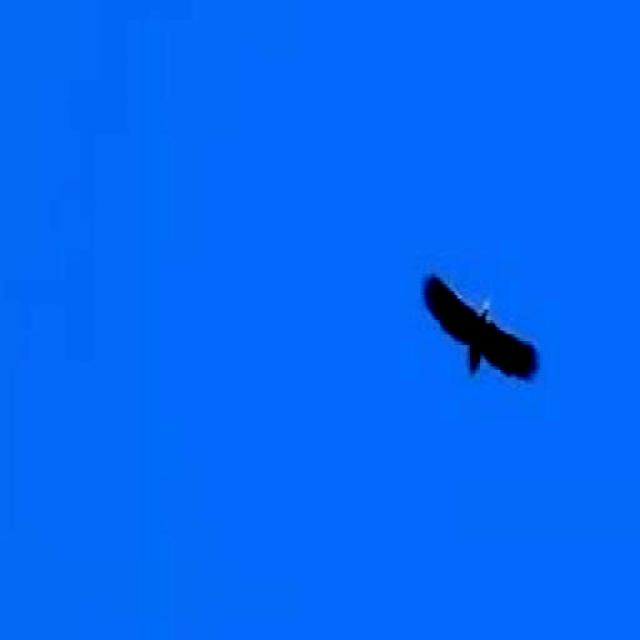airplane: (404, 235, 550, 426)
